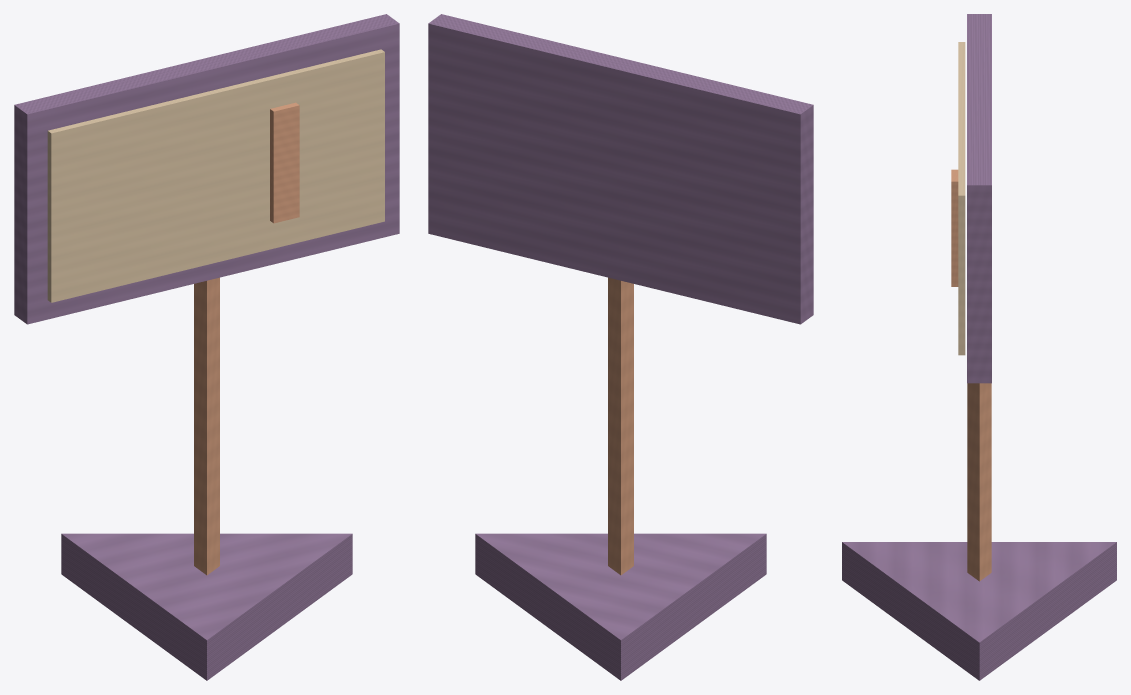
File: atlas100-s081-a11.lod2.glb
The picture shows the model from 3 angles, left to right: view 1: azimuth 30°, elevation 25°; view 2: azimuth 150°, elevation 25°; view 3: azimuth 270°, elevation 25°; orthographic projection. The views are drawn at different scales.
Parts seen in each view (by area): view 1: atlas100-s081-a11:part-003, atlas100-s081-a11:part-002, atlas100-s081-a11:part-000, atlas100-s081-a11:part-001, atlas100-s081-a11:part-006; view 2: atlas100-s081-a11:part-002, atlas100-s081-a11:part-000, atlas100-s081-a11:part-001; view 3: atlas100-s081-a11:part-000, atlas100-s081-a11:part-002, atlas100-s081-a11:part-001, atlas100-s081-a11:part-003, atlas100-s081-a11:part-006.
Boxes of the visible parts, box(x1,y1,x2,y2) form: atlas100-s081-a11:part-003: box(47, 49, 384, 302); atlas100-s081-a11:part-002: box(14, 14, 399, 324); atlas100-s081-a11:part-000: box(61, 533, 352, 680); atlas100-s081-a11:part-001: box(194, 277, 219, 575); atlas100-s081-a11:part-006: box(270, 102, 299, 223); atlas100-s081-a11:part-002: box(428, 14, 813, 324); atlas100-s081-a11:part-000: box(475, 533, 766, 680); atlas100-s081-a11:part-001: box(608, 277, 633, 575); atlas100-s081-a11:part-000: box(842, 542, 1116, 680); atlas100-s081-a11:part-002: box(967, 14, 991, 383); atlas100-s081-a11:part-001: box(967, 383, 991, 581); atlas100-s081-a11:part-003: box(958, 42, 965, 355); atlas100-s081-a11:part-006: box(951, 169, 958, 286).
Bounding box in the file's own units: 1.15 × 1.61 × 0.7794.
Materials: 3 (3 with a texture image).
